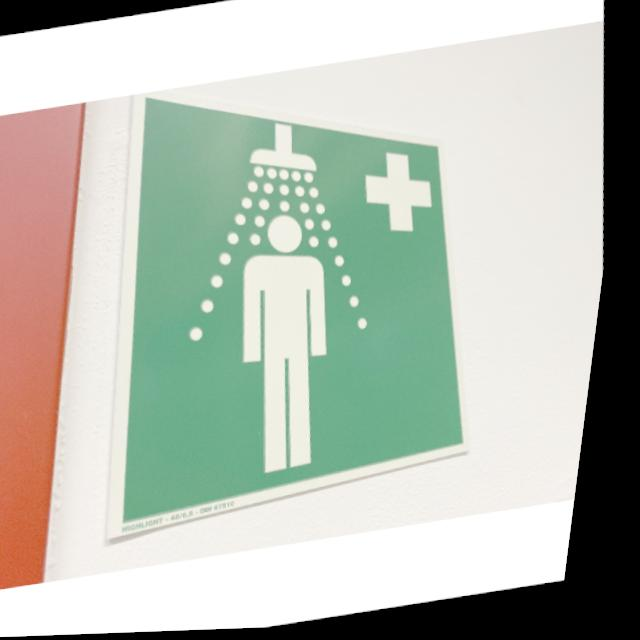shower: (66, 44, 526, 543)
